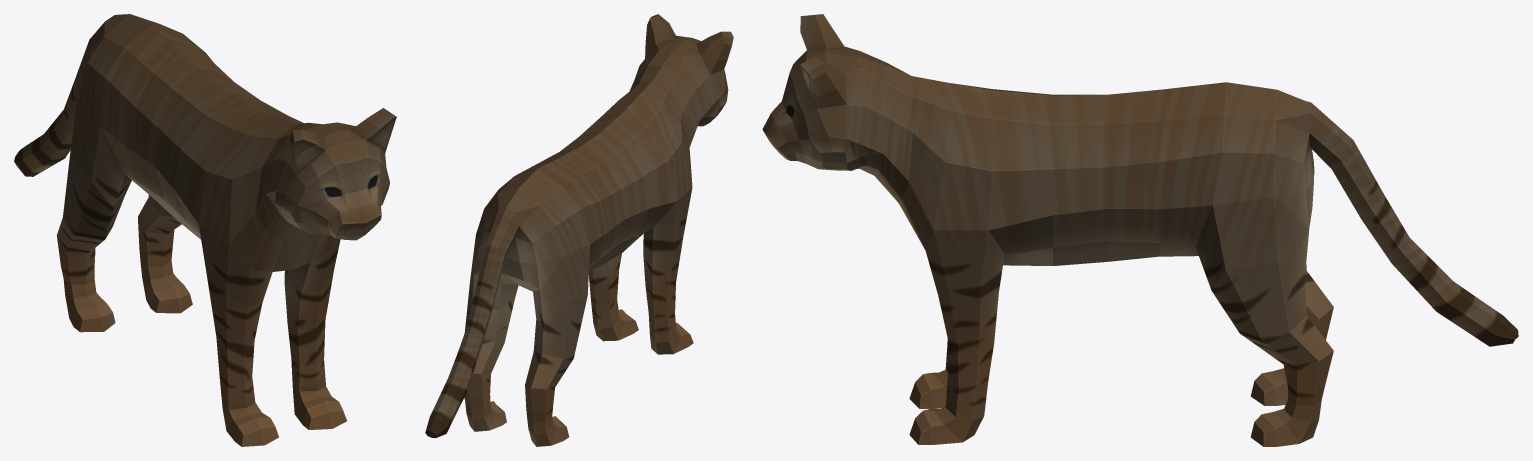
Rendered from ArabianWildcat.gltf.
3 views of the same model, side by side, from view 1: azimuth 30°, elevation 25°; view 2: azimuth 150°, elevation 25°; view 3: azimuth 270°, elevation 25° (orthographic). The views are drawn at different scales.
Visible parts, largest first — view 1: node-0; view 2: node-0; view 3: node-0.
Boxes of the visible parts, left/top/right/bottom form: node-0: left=14, top=14, right=396, bottom=446; node-0: left=425, top=14, right=733, bottom=446; node-0: left=762, top=14, right=1518, bottom=446.
Size of the model in its own units: 0.8993 by 2.36 by 4.24.
1 material, 1 textured.
